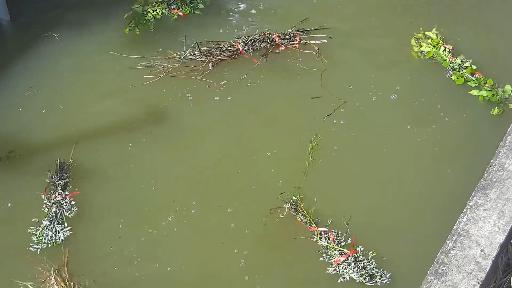twig: (270, 124, 410, 288), (121, 14, 347, 102), (406, 23, 512, 115), (19, 126, 86, 257), (123, 0, 216, 41), (16, 262, 114, 288)
